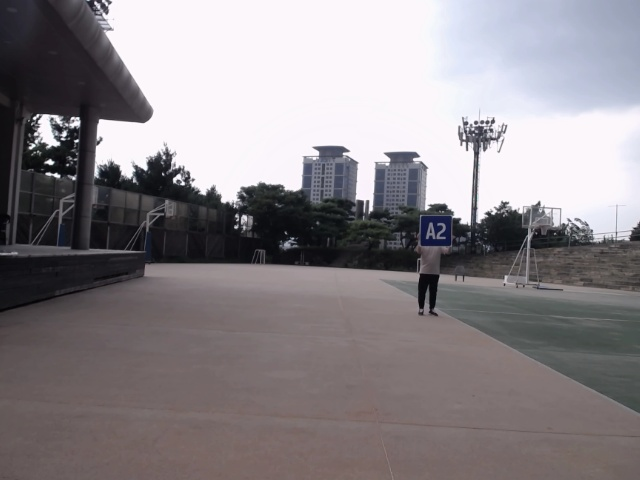delivery_a2: (419, 215, 452, 246)
